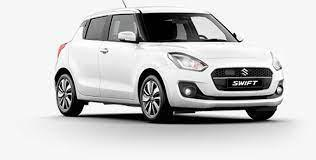Hatchback: (51, 7, 290, 124)
